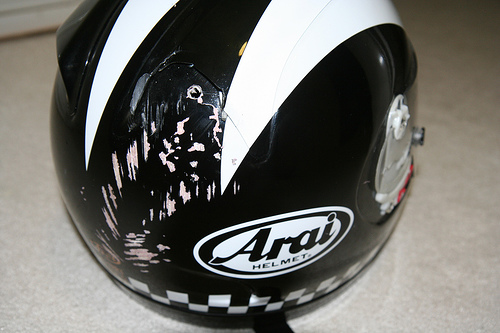helmet: (47, 10, 410, 289)
